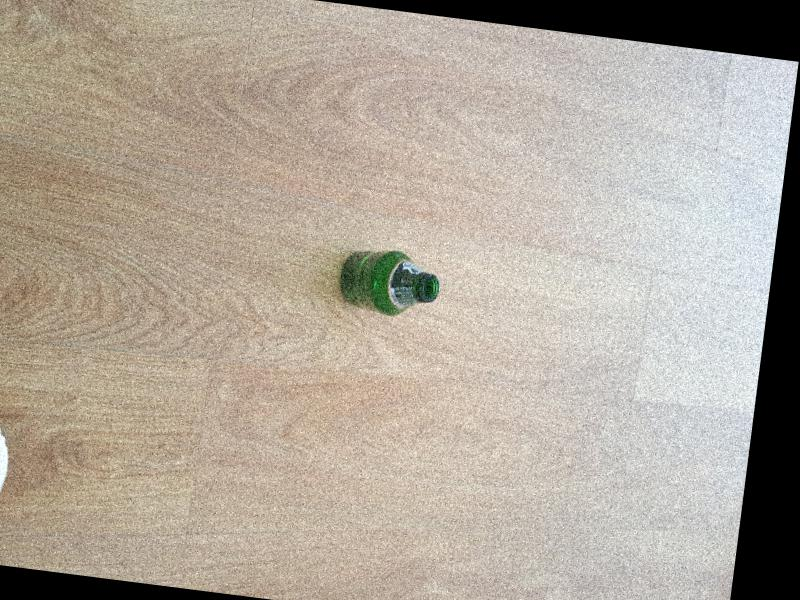Beer: (334, 245, 442, 326)
